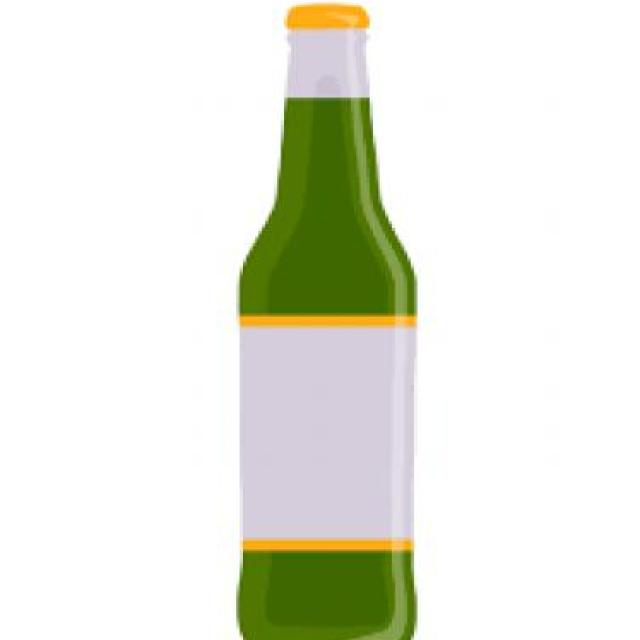kaca: (237, 29, 422, 640)
